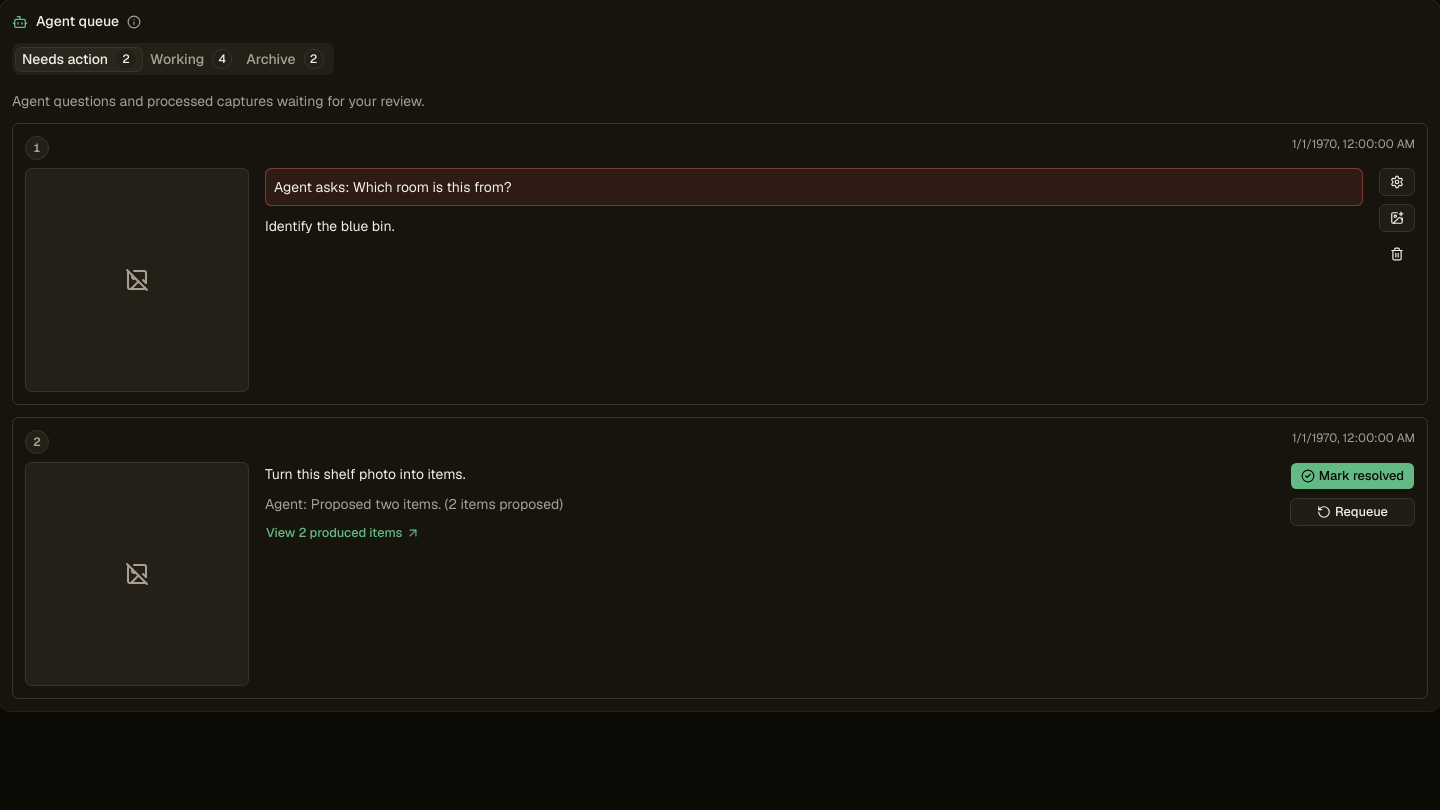
Test: IngestionQueueList detail modal (MOVE-356) › cancels inline direction edits with Escape and discards the draft
Click the button named "Answer & requeue": [1397, 182] box top-left (1379, 168), bottom-right (1415, 196)
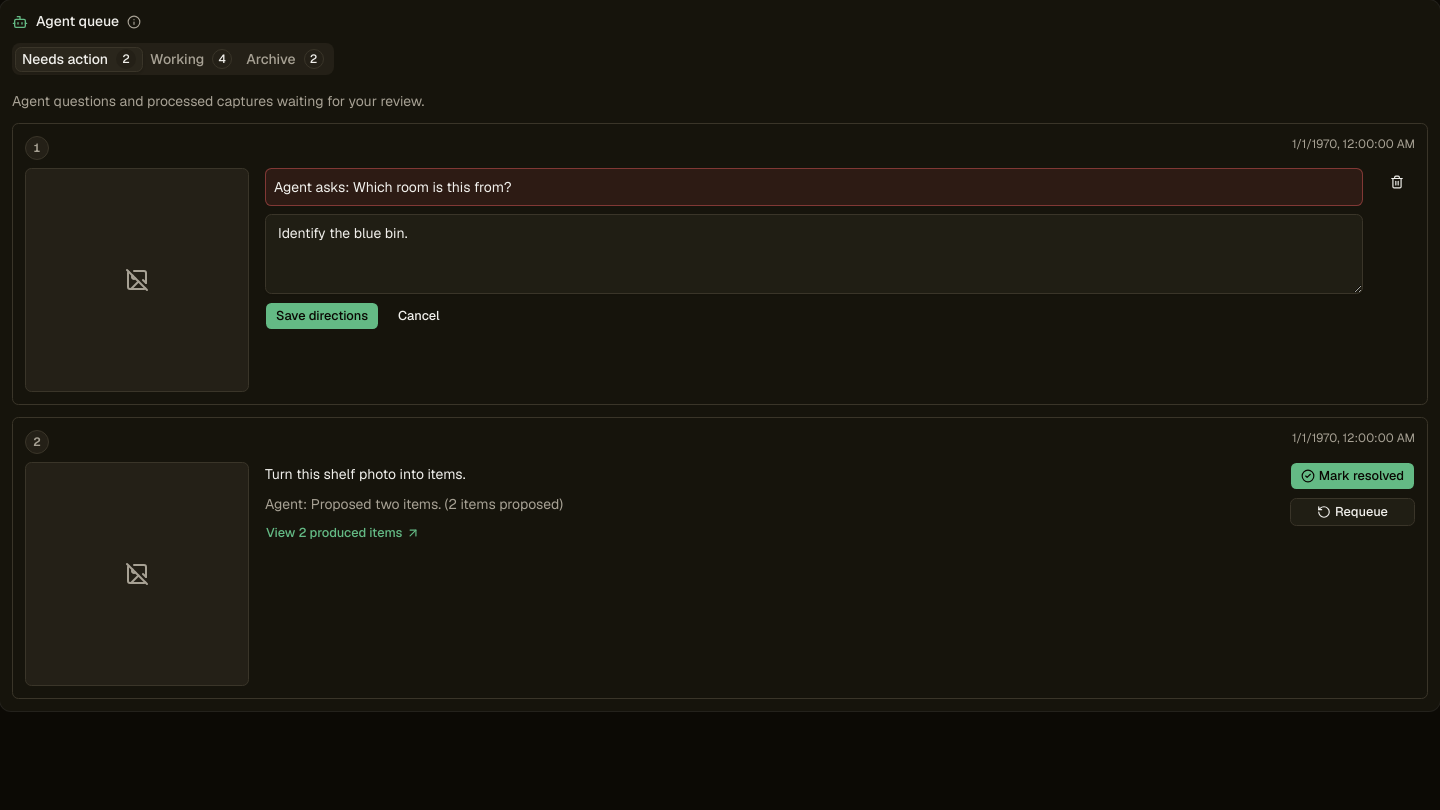
Replace the text in the text box named "Edit directions" with "Garage shelf draft": [814, 254] box top-left (265, 214), bottom-right (1363, 294)
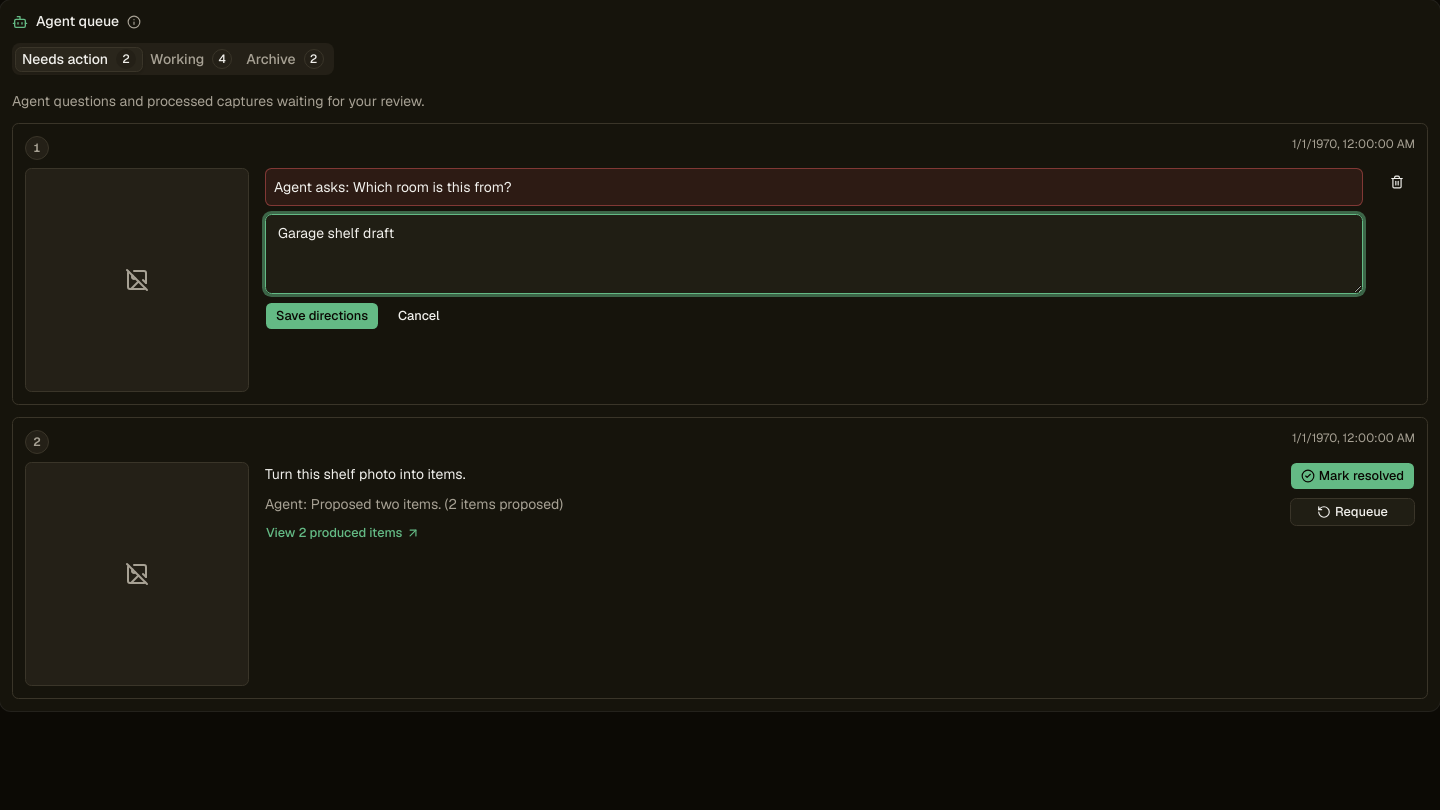
Press Escape
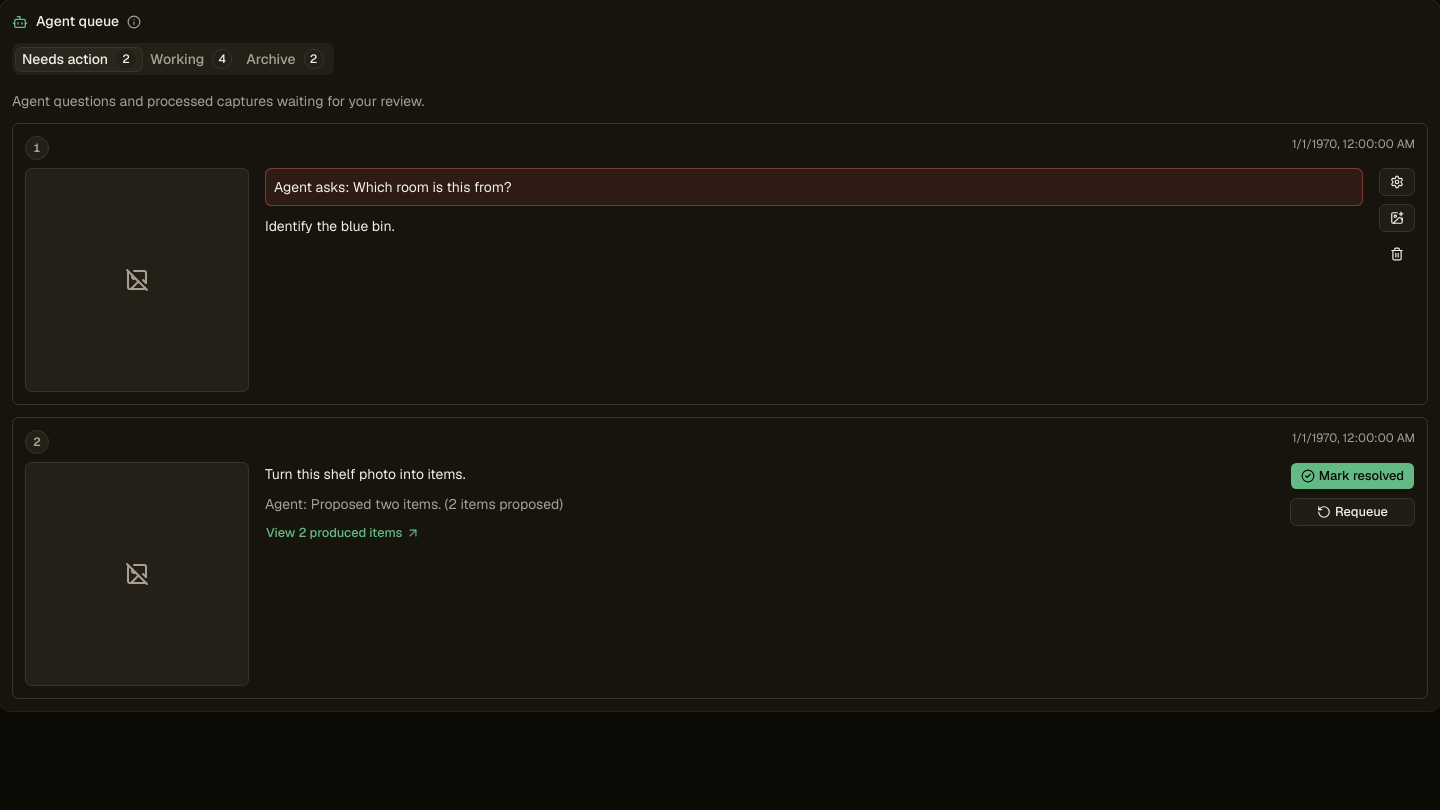
Now the text "Identify the blue bin." is shown, box top-left (265, 217), bottom-right (394, 235)
Click the button named "Answer & requeue": [1397, 182] box top-left (1379, 168), bottom-right (1415, 196)
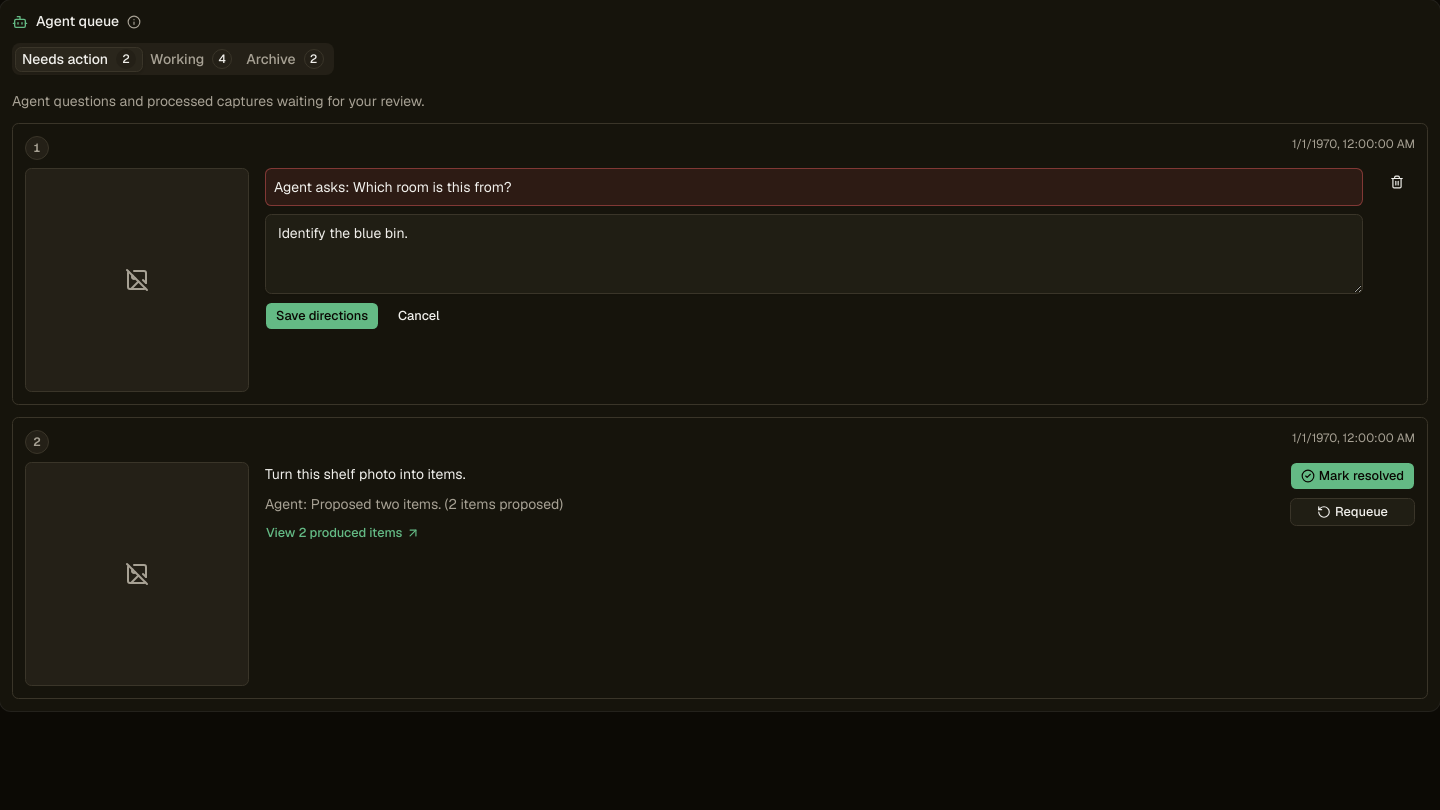
Now the text box named "Edit directions" holds "Identify the blue bin.", box top-left (265, 214), bottom-right (1363, 294)
